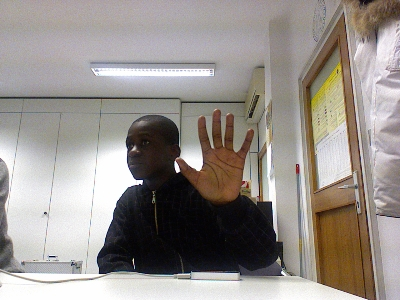布: (175, 108, 255, 204)
